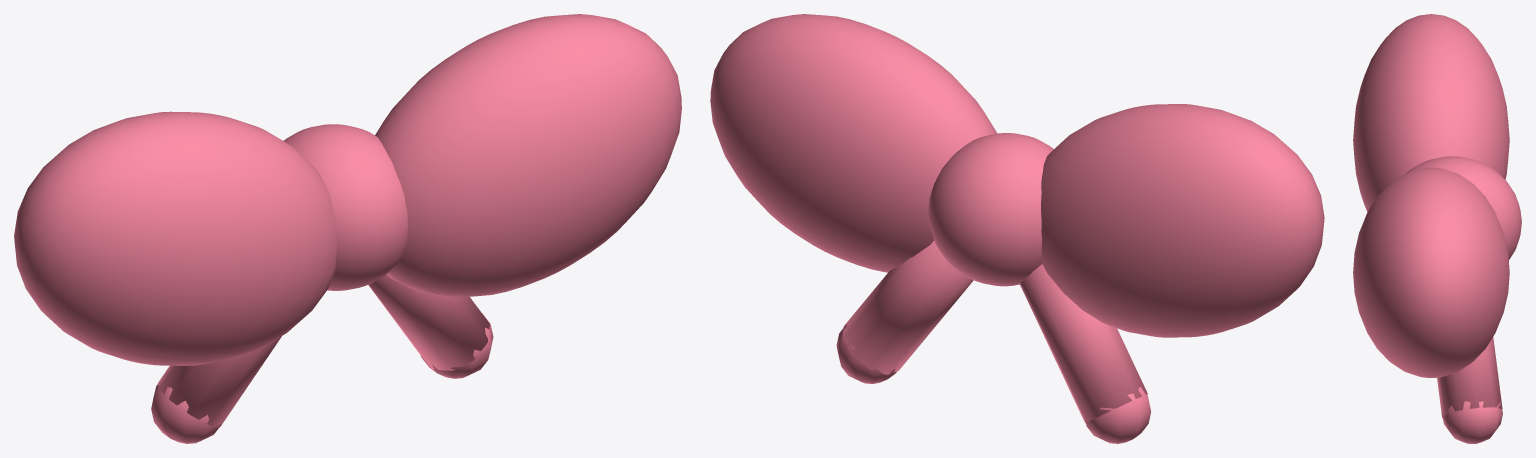
File: big_bow.glb
3 renders of one model, left to right at view 1: azimuth 30°, elevation 25°; view 2: azimuth 150°, elevation 25°; view 3: azimuth 270°, elevation 25°, orthographic. The views are drawn at different scales.
Visible parts, largest first — view 1: Head; view 2: Head; view 3: Head.
Part boxes in pixels (bbox=[...]): Head: bbox=[14, 14, 681, 443]; Head: bbox=[710, 14, 1324, 443]; Head: bbox=[1353, 14, 1521, 443].
Size of the model in its own units: 0.2792 by 0.1443 by 0.0783.
